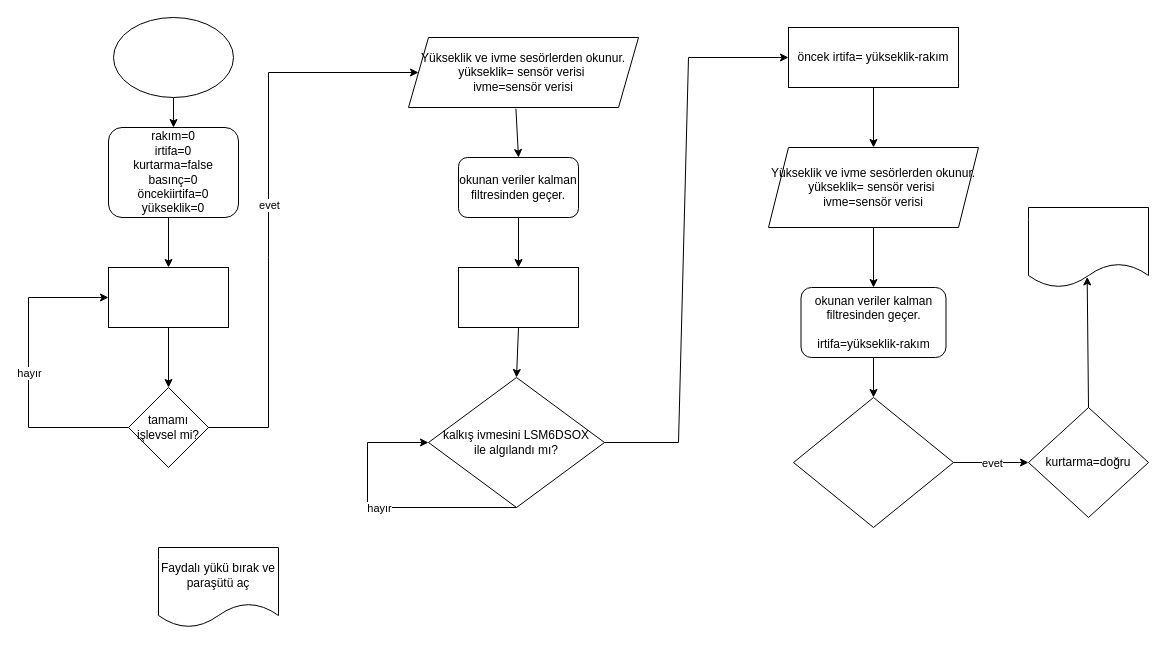
Image size: 1166x645. Some labels were removed from this diagram. The shapes that lost their labels are listed below. From the top down, each one's centre as x and y in pixels, then its label:
(173,57): başla
(1088,247): paraşütü aç ve faydalı yükü bırak
(168,297): Sensörleri başlat (BNO055, BMP390, GNSS). SD kartı ve LoRa'yı kontrol et.
(518,297): Ebyte E22-900T30S LoRa modülü ile verileri yer istasyonuna yolla
(873,462): ivme<0 mı?&& irtifa< öncekiirtifa
